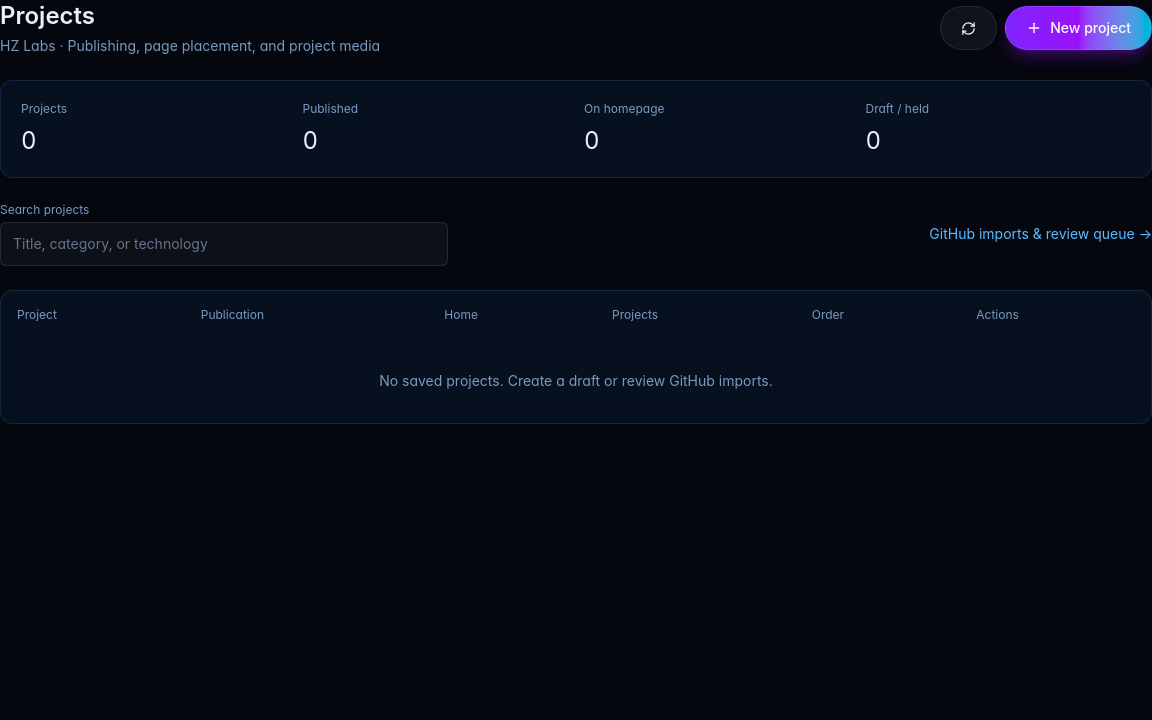
Test: Project studio › creates a private draft when no existing project is being edited
Click the button "New project": click(1079, 28) [1005,6,1151,50]
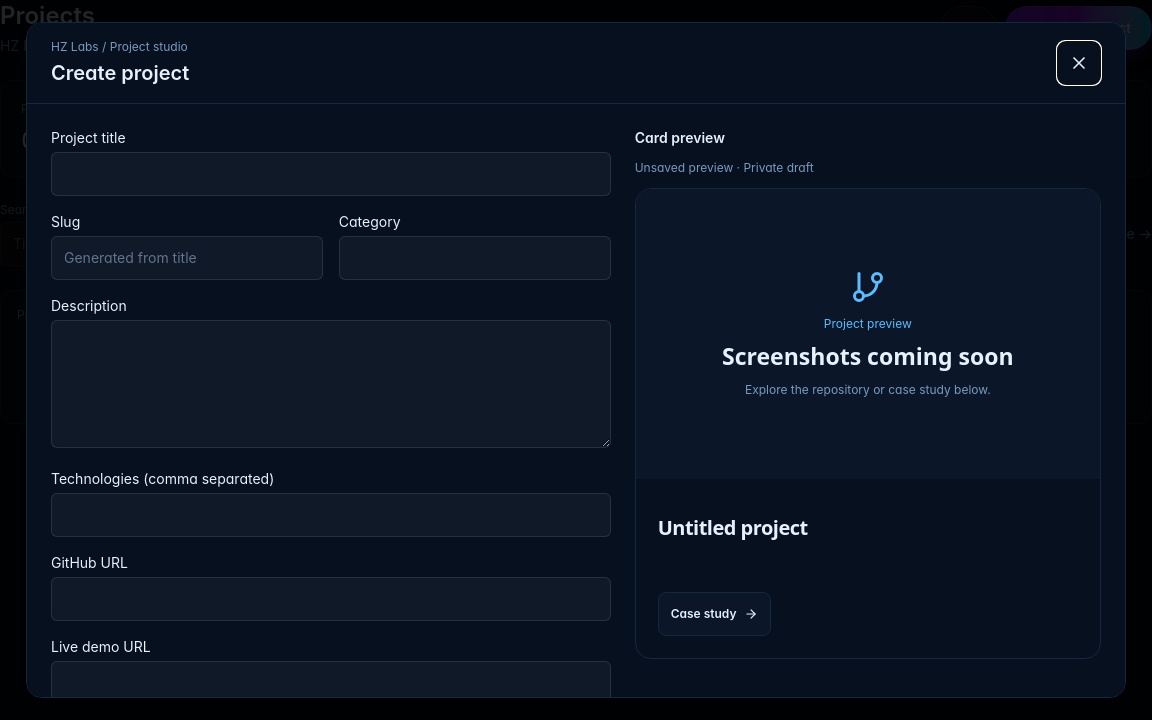
In the field labelled "Project title": (331, 174) [51,152,611,196], type "New tool"
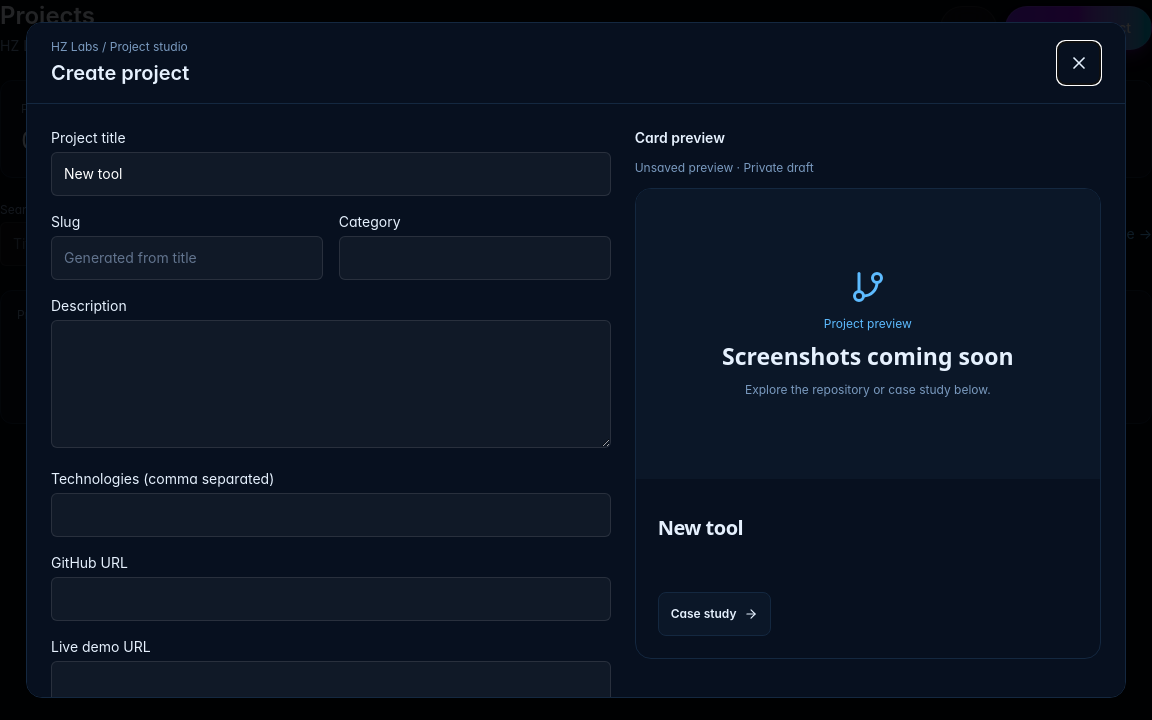
In the field labelled "Category": (475, 258) [339,236,611,280], type "Developer tool"
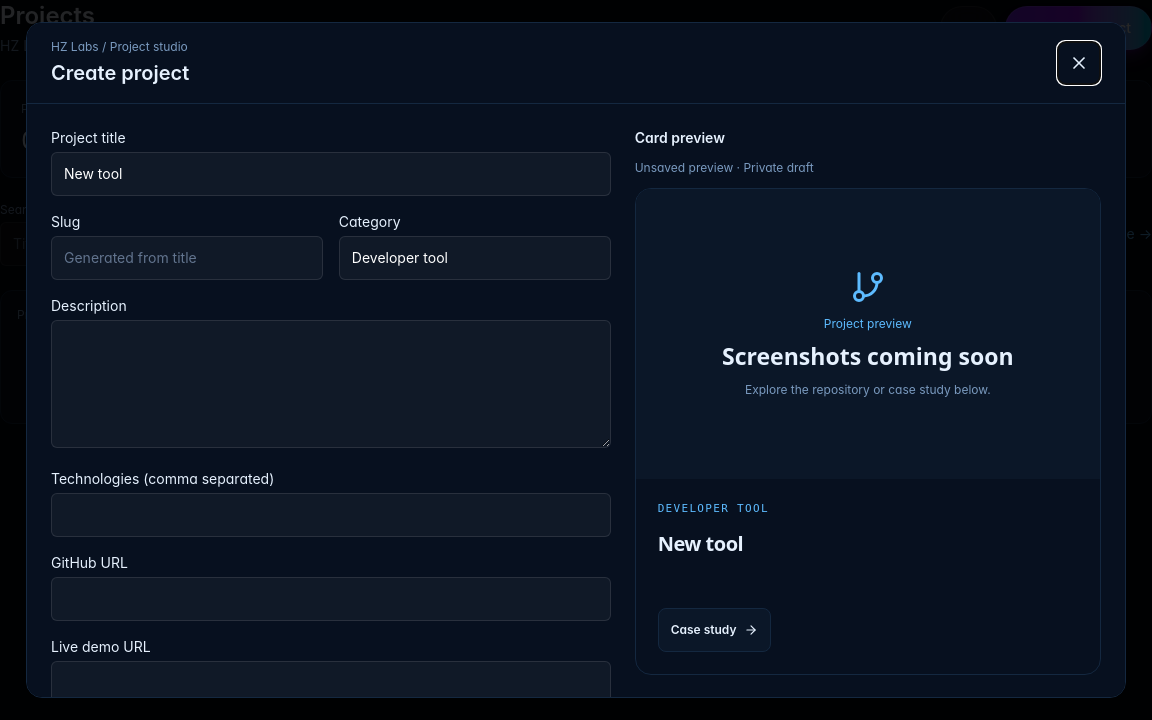
In the text box labelled "Description": (331, 384) [51,320,611,448], type "A reviewed project."
(page scrolled)
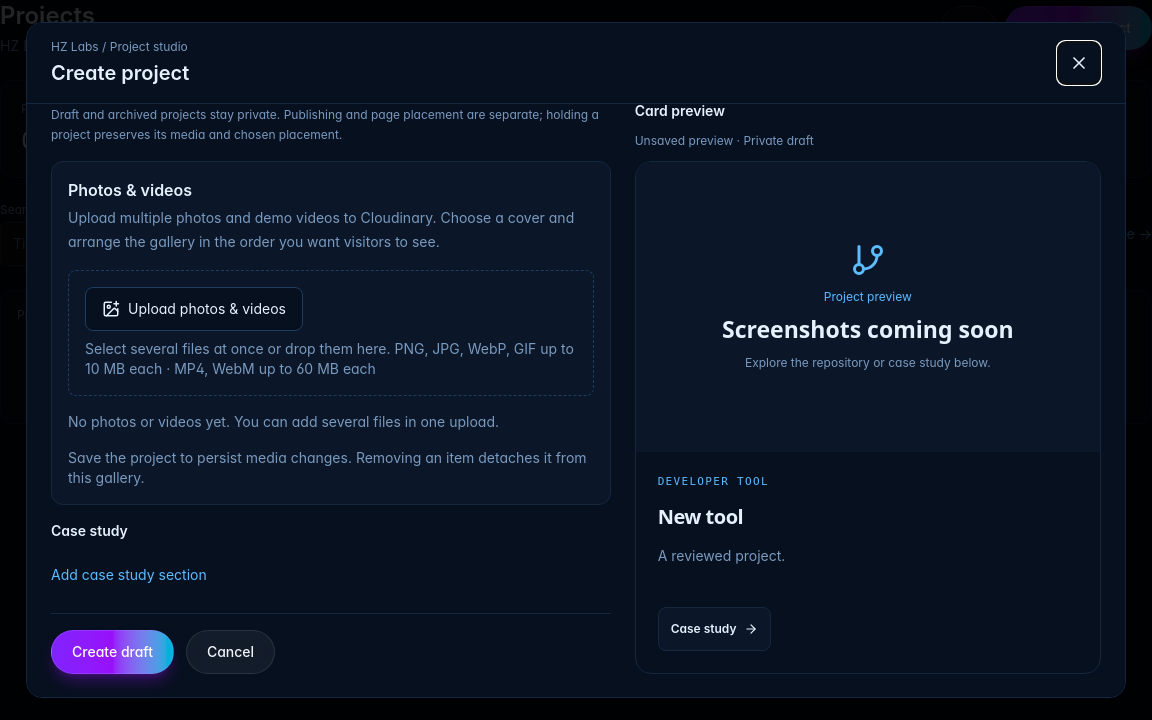
Click the button "Create draft": click(112, 652) [51,630,174,674]
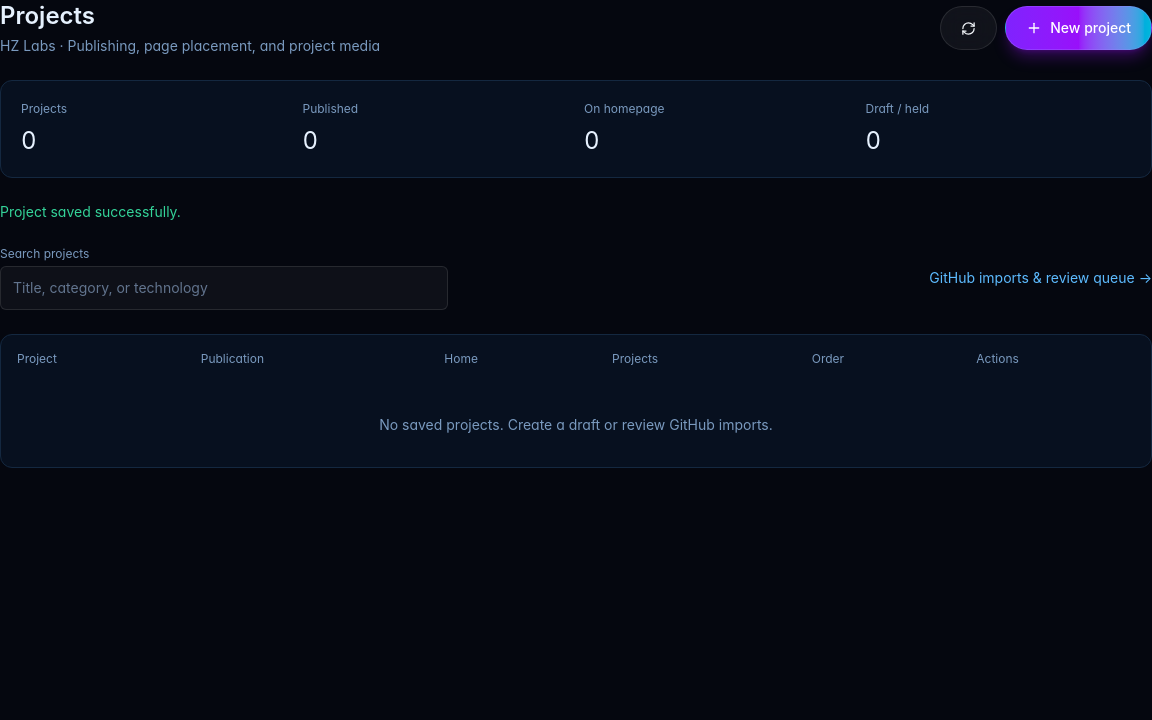
Expected: the text "Project saved successfully." is shown, [0,203,181,220]
